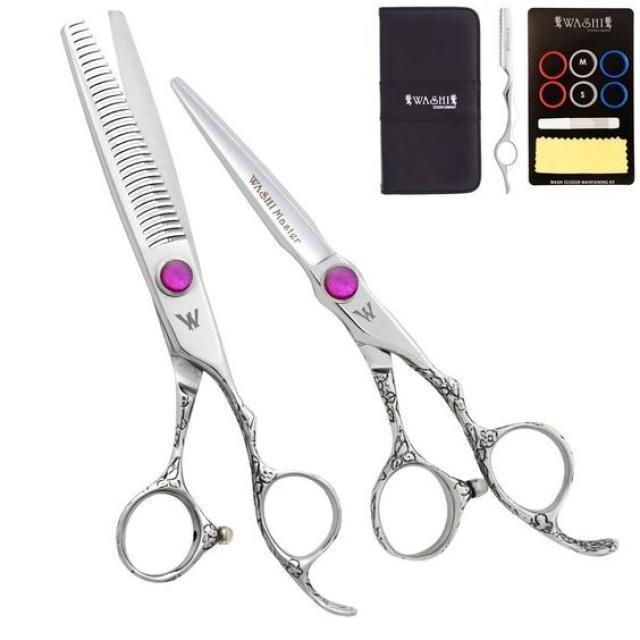scissor: (61, 12, 614, 615)
